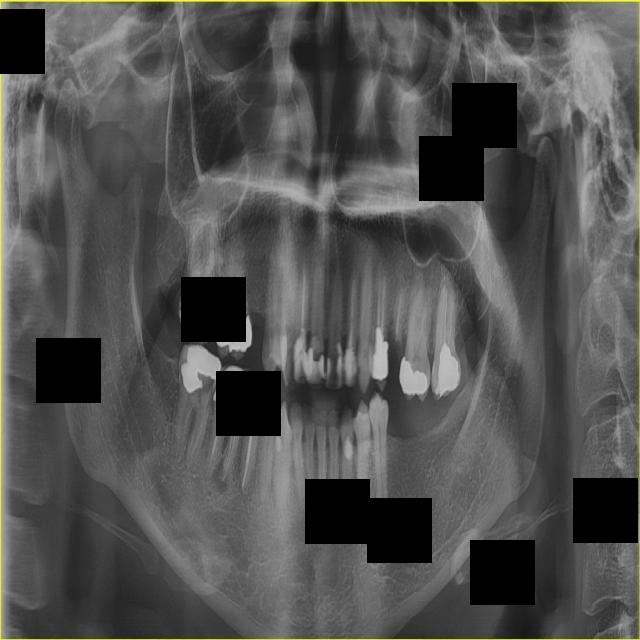71: (246, 424, 254, 466)
74: (207, 404, 228, 470), (227, 406, 239, 470), (348, 279, 356, 347), (442, 289, 449, 345), (394, 290, 402, 335), (228, 404, 234, 460), (301, 262, 306, 328), (381, 278, 387, 331), (448, 301, 454, 346), (377, 276, 381, 327), (241, 464, 248, 488), (440, 310, 442, 347)
NucleOSS Implant: (168, 337, 227, 396), (433, 341, 465, 402), (214, 304, 253, 354), (239, 376, 271, 428), (371, 326, 392, 381), (399, 357, 428, 395), (199, 299, 219, 344), (218, 374, 242, 407)
Sterngold Implant: (388, 327, 404, 359), (196, 372, 215, 397), (262, 397, 276, 422)
Straumann Implant: (177, 299, 217, 343), (294, 336, 312, 383), (306, 347, 325, 385), (343, 344, 358, 388), (342, 436, 356, 460), (336, 340, 342, 388), (274, 434, 283, 453), (327, 356, 332, 380)
Zimmer Implant: (210, 362, 252, 413)
